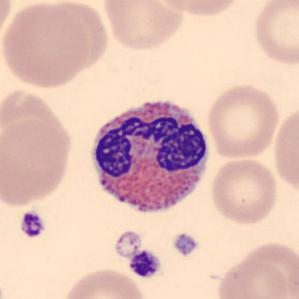Eosinophil: (84, 91, 215, 222)
Platelets: (127, 249, 162, 279), (112, 228, 142, 260), (18, 210, 47, 240), (171, 231, 199, 258)
RBC: (0, 1, 92, 91), (0, 112, 75, 208), (205, 81, 282, 161), (208, 155, 280, 226), (44, 0, 111, 72), (100, 0, 186, 54), (237, 239, 299, 299), (214, 252, 290, 299), (250, 0, 299, 68), (60, 265, 150, 299), (272, 103, 298, 197), (152, 0, 242, 19), (0, 0, 16, 50)
